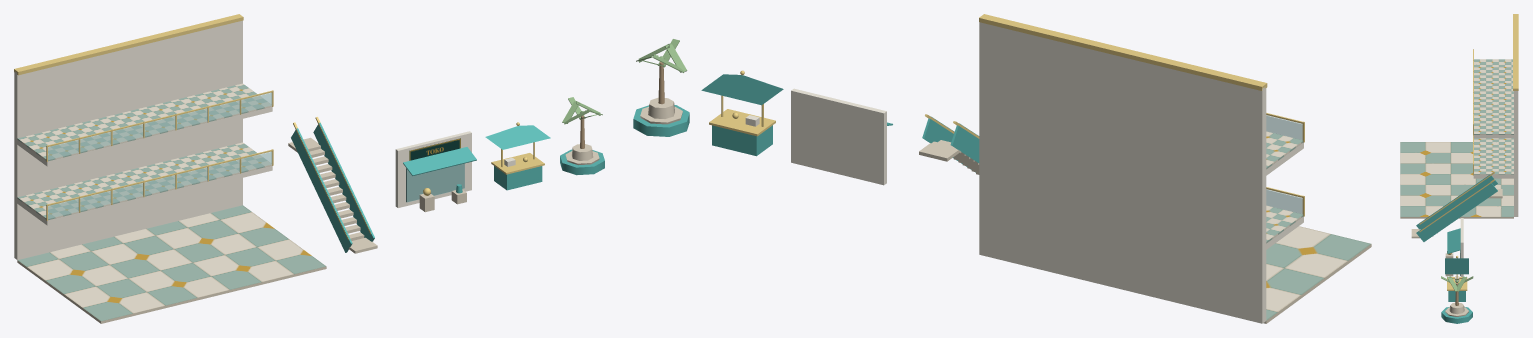
File: kit-12-interior-mall.glb
The picture shows the model from 3 angles, left to right: view 1: azimuth 30°, elevation 25°; view 2: azimuth 150°, elevation 25°; view 3: azimuth 270°, elevation 25°; orthographic projection. The views are drawn at different scales.
Visible parts, largest first — view 1: MallIn_Atrium, MallIn_TokoUnit, MallIn_Eskalator, MallIn_Kios, MallIn_BangkuPalem; view 2: MallIn_Atrium, MallIn_TokoUnit, MallIn_Kios, MallIn_BangkuPalem, MallIn_Eskalator; view 3: MallIn_Atrium, MallIn_Eskalator, MallIn_BangkuPalem, MallIn_Kios, MallIn_TokoUnit.
Boxes of the visible parts, x1,y1,x2,y2 form: MallIn_Atrium: (14, 14, 326, 323); MallIn_TokoUnit: (395, 131, 476, 212); MallIn_Eskalator: (288, 117, 377, 253); MallIn_Kios: (485, 122, 550, 190); MallIn_BangkuPalem: (560, 97, 604, 175); MallIn_Atrium: (979, 14, 1371, 323); MallIn_TokoUnit: (791, 88, 892, 185); MallIn_Kios: (701, 70, 783, 156); MallIn_BangkuPalem: (633, 39, 689, 136); MallIn_Eskalator: (919, 114, 979, 174); MallIn_Atrium: (1400, 14, 1518, 218); MallIn_Eskalator: (1411, 171, 1502, 241); MallIn_BangkuPalem: (1441, 276, 1473, 323); MallIn_Kios: (1445, 256, 1468, 301); MallIn_TokoUnit: (1445, 218, 1463, 276).
Bounding box in the file's own units: 33.78 × 11.68 × 9.38.
Materials: 10 (2 with a texture image).
